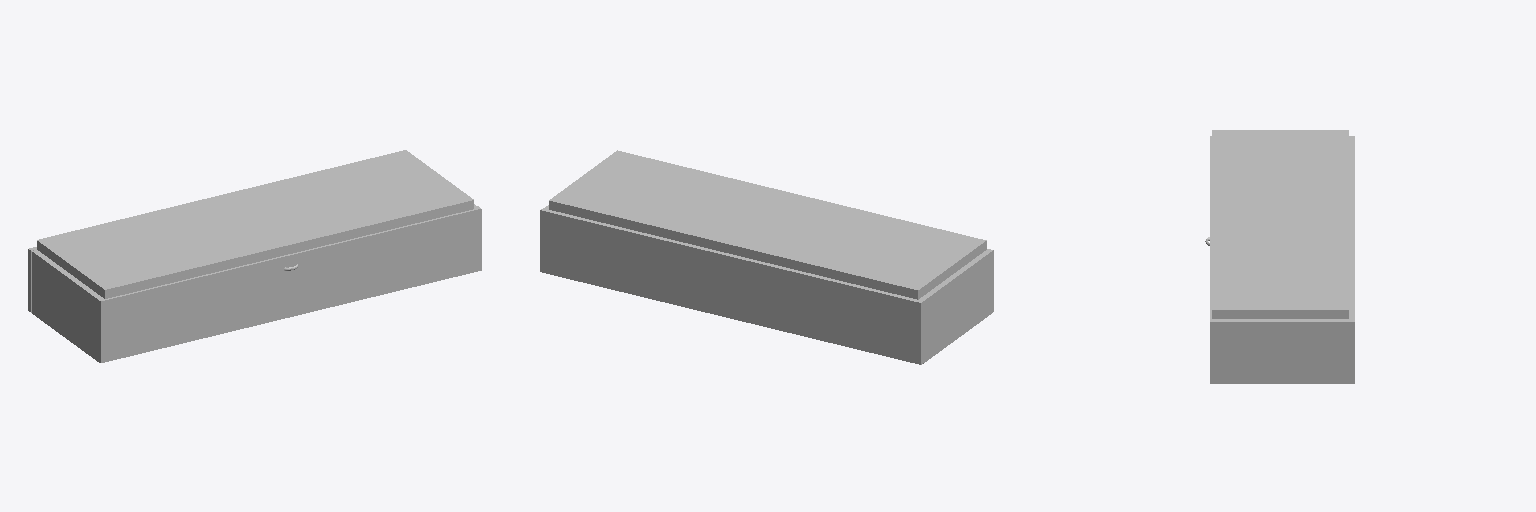
Rendered from EliteCrate.obj.
The picture shows the model from 3 angles: view 1: azimuth 30°, elevation 25°; view 2: azimuth 150°, elevation 25°; view 3: azimuth 270°, elevation 25°; orthographic projection.
Visible parts, largest first — view 1: Cube.005_Cube.006, Cube.004_Cube.005, Cube.001_Cube.002; view 2: Cube.005_Cube.006, Cube.003_Cube.004, Cube.001_Cube.002; view 3: Cube.005_Cube.006, Cube.002_Cube.003, Cube.003_Cube.004, Cube.004_Cube.005.
Boxes of the visible parts, <box> form: Cube.005_Cube.006: <box>37,150,473,298</box>; Cube.004_Cube.005: <box>97,206,481,362</box>; Cube.001_Cube.002: <box>32,250,102,361</box>; Cube.005_Cube.006: <box>549,150,986,299</box>; Cube.003_Cube.004: <box>540,208,923,364</box>; Cube.001_Cube.002: <box>919,251,990,363</box>; Cube.005_Cube.006: <box>1212,130,1348,318</box>; Cube.002_Cube.003: <box>1216,319,1347,383</box>; Cube.003_Cube.004: <box>1348,136,1354,383</box>; Cube.004_Cube.005: <box>1210,136,1215,383</box>.
Bounding box in the file's own units: 3.89 × 0.6994 × 1.32.